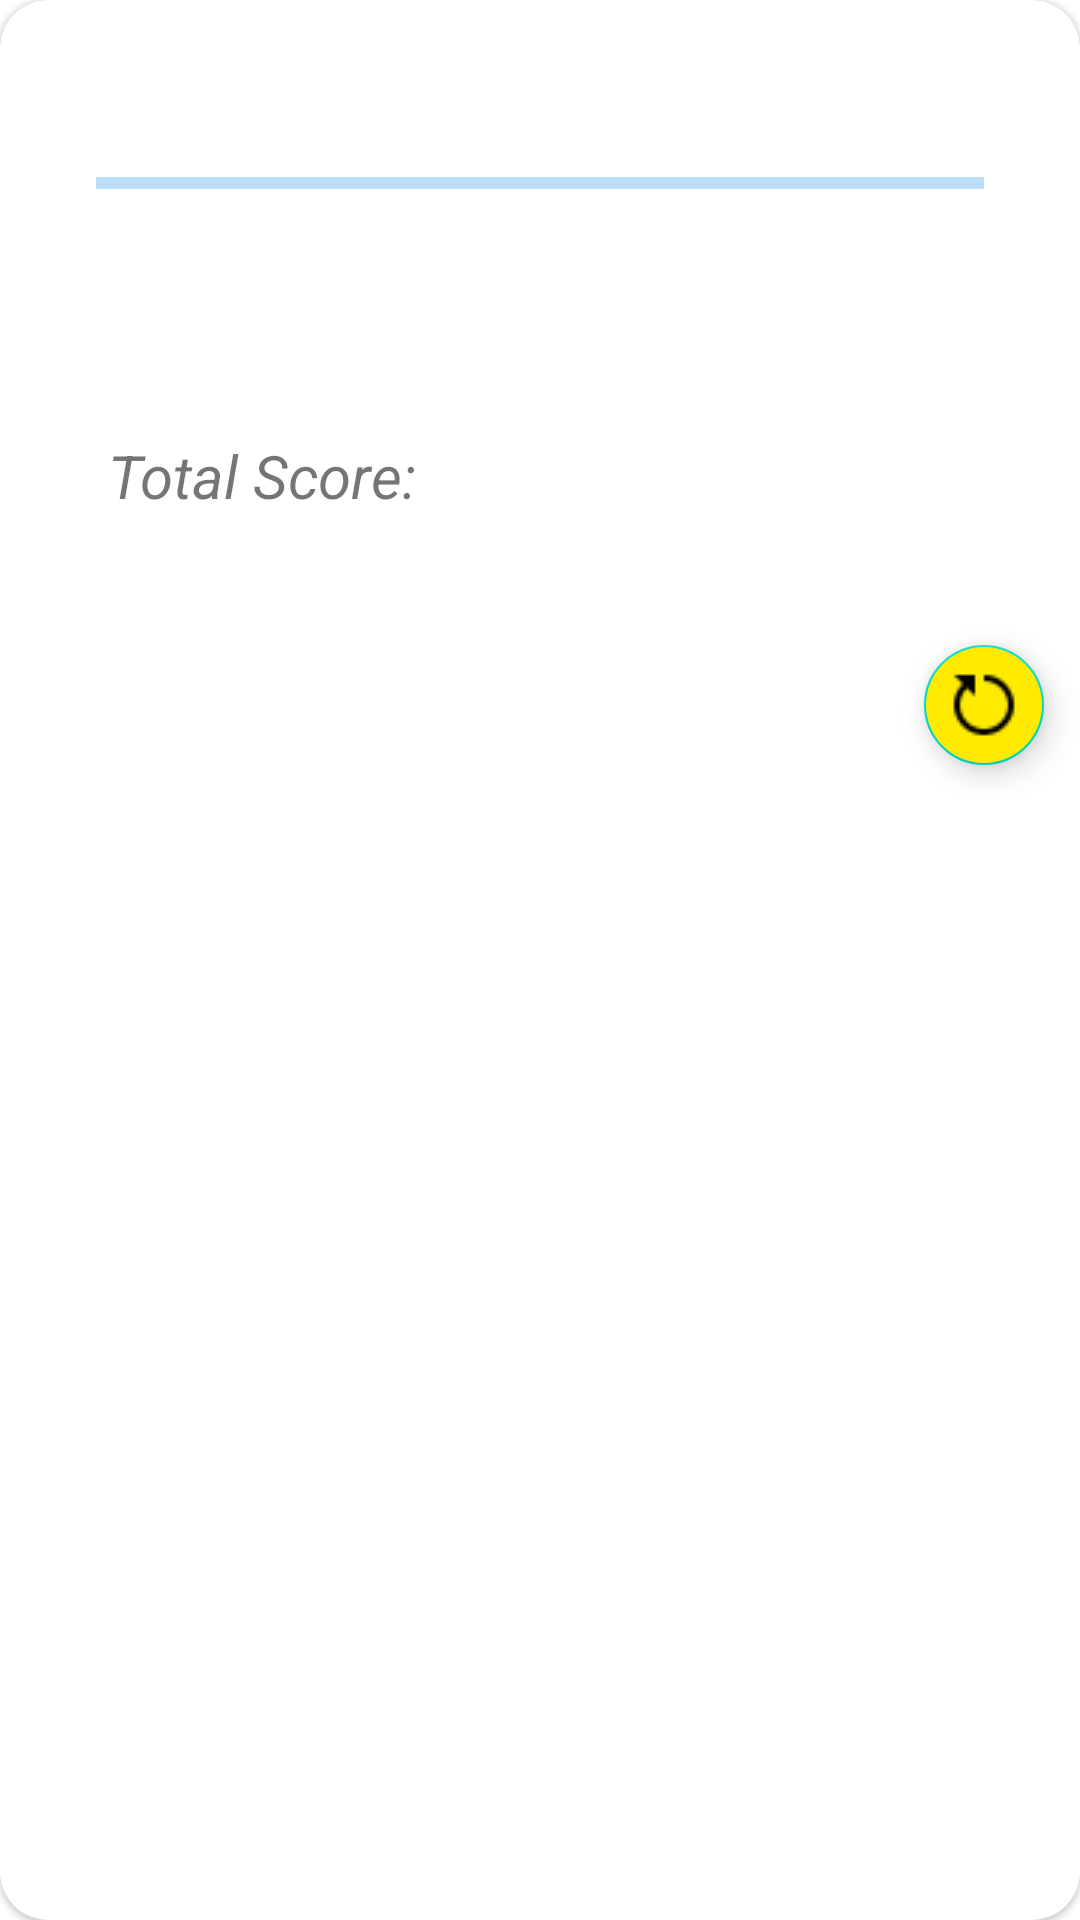

Named icons in this screenshot (1080 × 1920) and their centers, point (x, y):
restart: point (985, 707)
